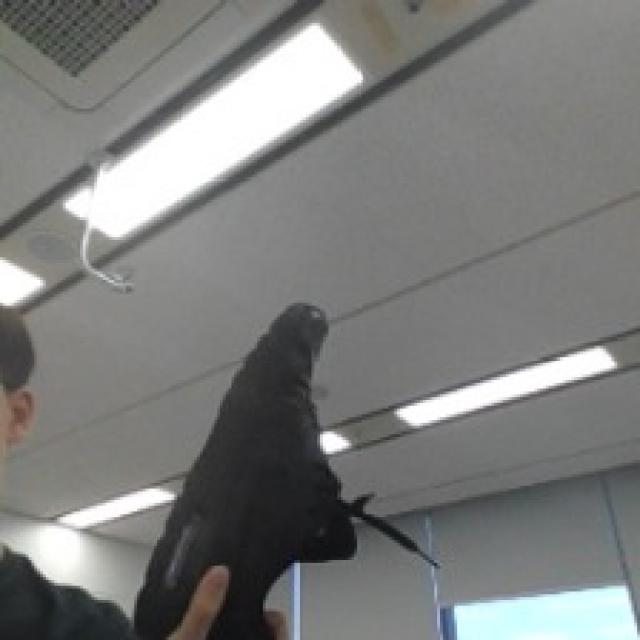shoe: (134, 300, 357, 640)
